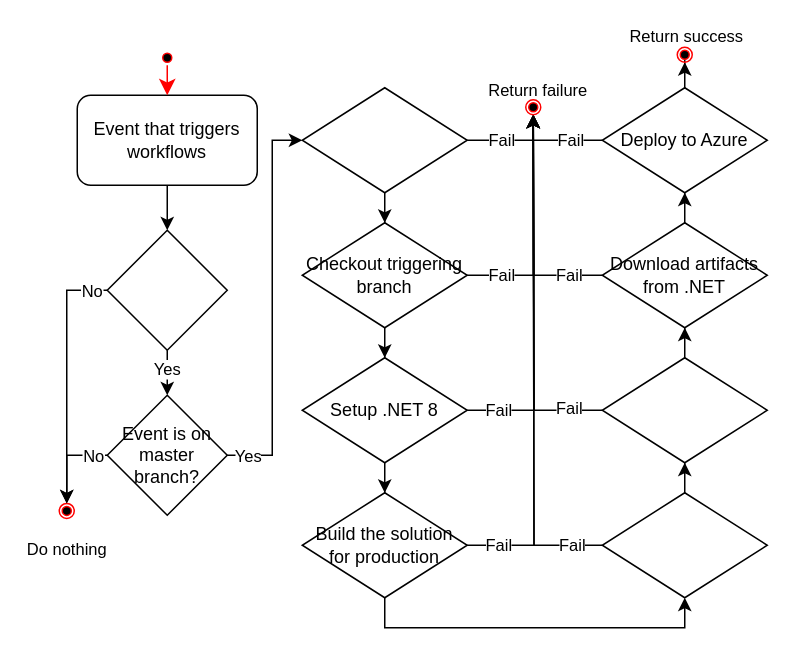
Some shapes in this 794 by 666 pixel diagram are drawn without their labels. Each missing label, with the centre of its shape:
Compile the solution: point (684, 544)
Event of type push?: point (166, 289)
Start ubuntu environment: point (384, 139)
Upload artifacts to .NET: point (684, 409)
